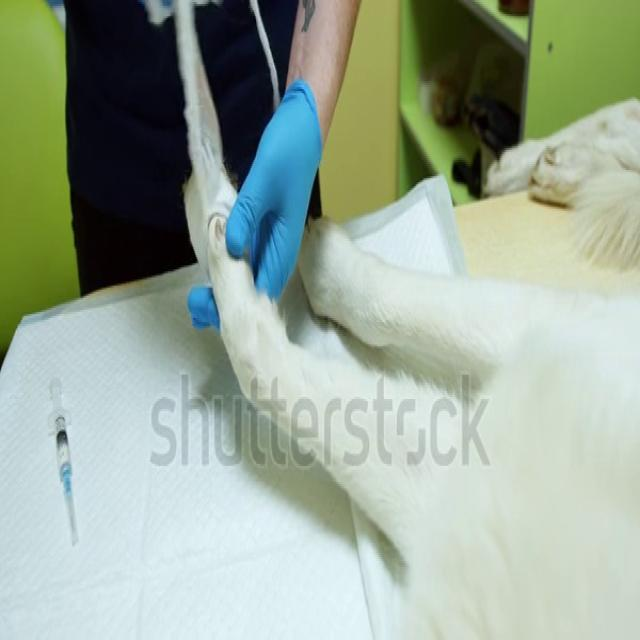injured-animals: (165, 6, 638, 638)
